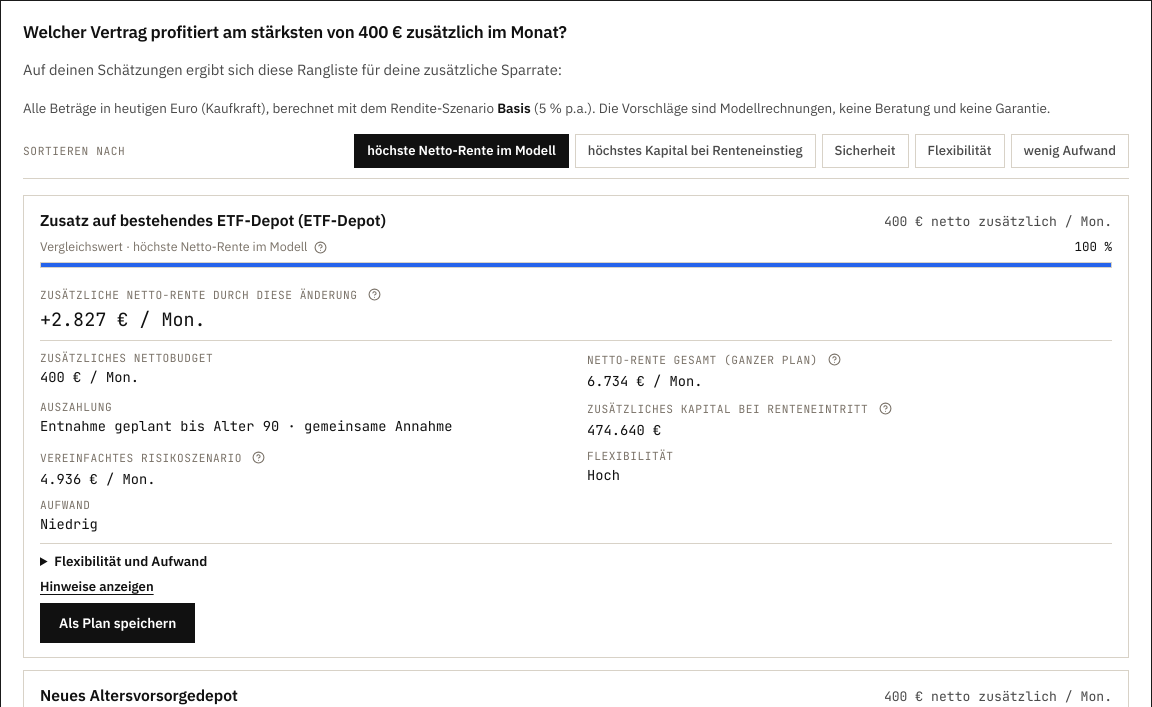
Test: RecommenderCard — audit F16 / F20: risk label, ranking explanation, unique help names › labels the stochastic floor as a simplified risk scenario, not as "Sicherheit"
Check: the element with class "recommender-figures__row" that starts with "Vereinfachtes Risikoszenario" is shown, box [40,449,268,488]
Click the button named "Vereinfachtes Risikoszenario für Zusatz auf bestehendes ETF-": (259, 458) [250,449,268,467]
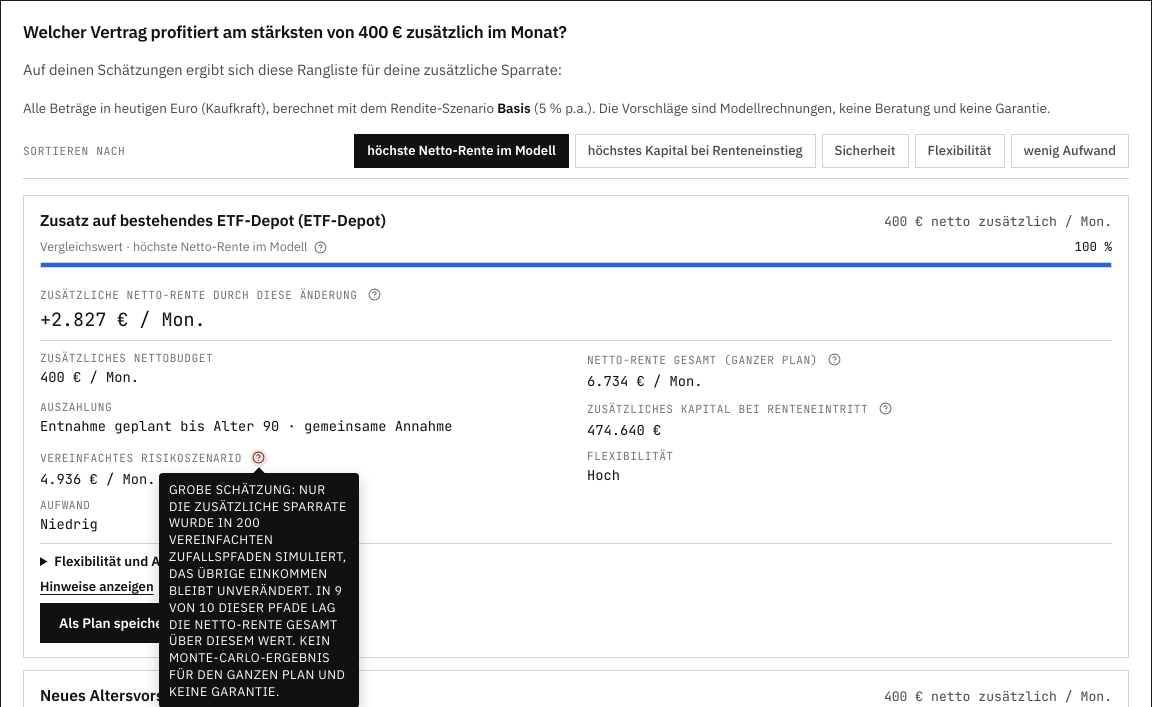
Check: the tooltip shows "200 vereinfachten Zufallspfaden", box [169,481,347,699]
Check: the tooltip shows "übrige Einkommen bleibt unverändert", box [169,481,347,699]
Check: the tooltip shows "keine Garantie", box [169,481,347,699]
